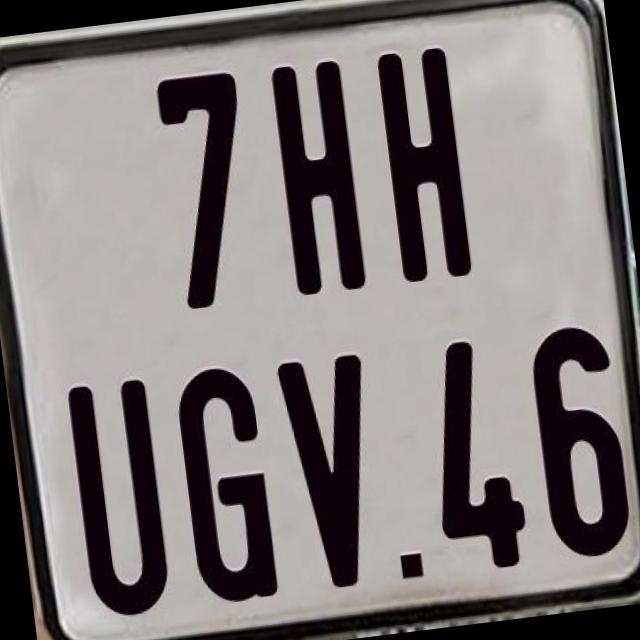4: (418, 331, 535, 571)
6: (524, 318, 636, 564)
7: (156, 71, 264, 316)
G: (170, 359, 282, 605)
H: (267, 55, 367, 299), (372, 42, 470, 286)
U: (62, 376, 170, 624)
V: (275, 348, 388, 586)
